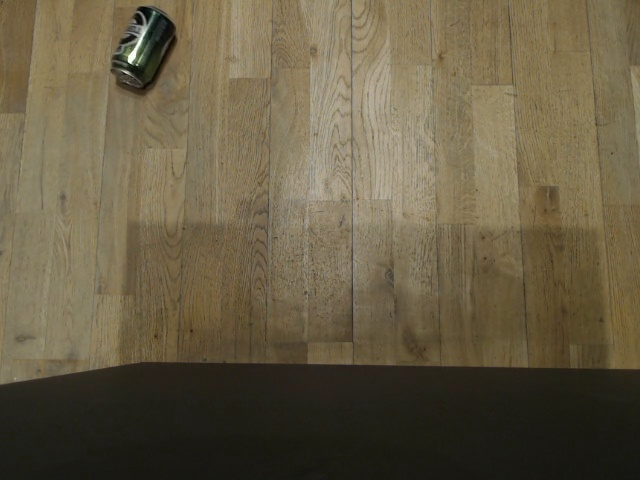beer: (107, 3, 180, 91)
